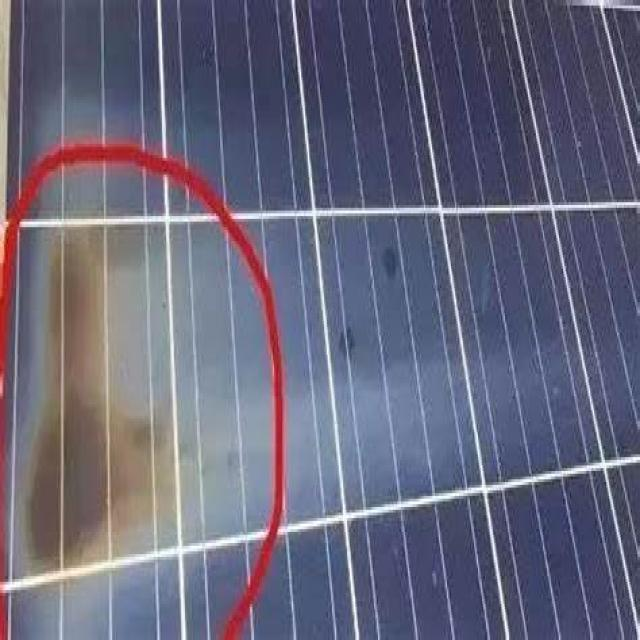electrical damage: (23, 225, 169, 607)
